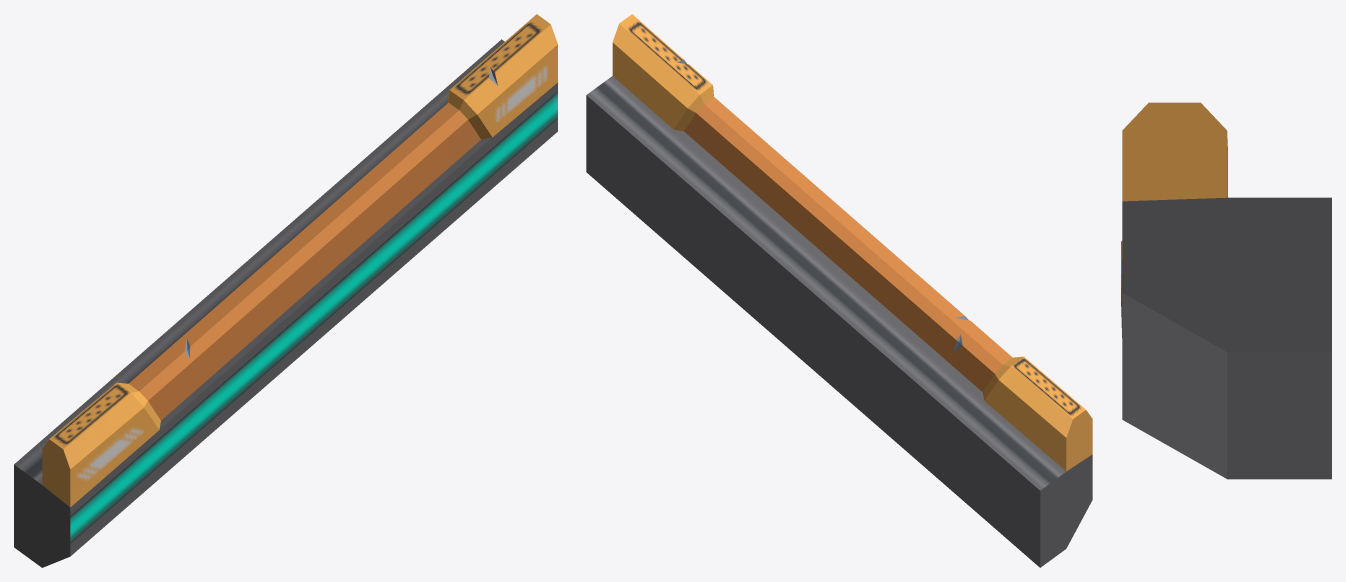
Rendered from SM_Bld_Railing_Stairs_01.fbx.
3 renders of one model, left to right at view 1: azimuth 30°, elevation 25°; view 2: azimuth 150°, elevation 25°; view 3: azimuth 270°, elevation 25°, orthographic. The views are drawn at different scales.
Parts seen in each view (by area): view 1: SM_Bld_Railing_Stairs_01; view 2: SM_Bld_Railing_Stairs_01; view 3: SM_Bld_Railing_Stairs_01.
Part boxes in pixels (bbox=[...]): SM_Bld_Railing_Stairs_01: bbox=[14, 14, 557, 567]; SM_Bld_Railing_Stairs_01: bbox=[586, 14, 1092, 567]; SM_Bld_Railing_Stairs_01: bbox=[1121, 102, 1331, 479].
Bounding box in the file's own units: 250 × 216 × 50.31.
